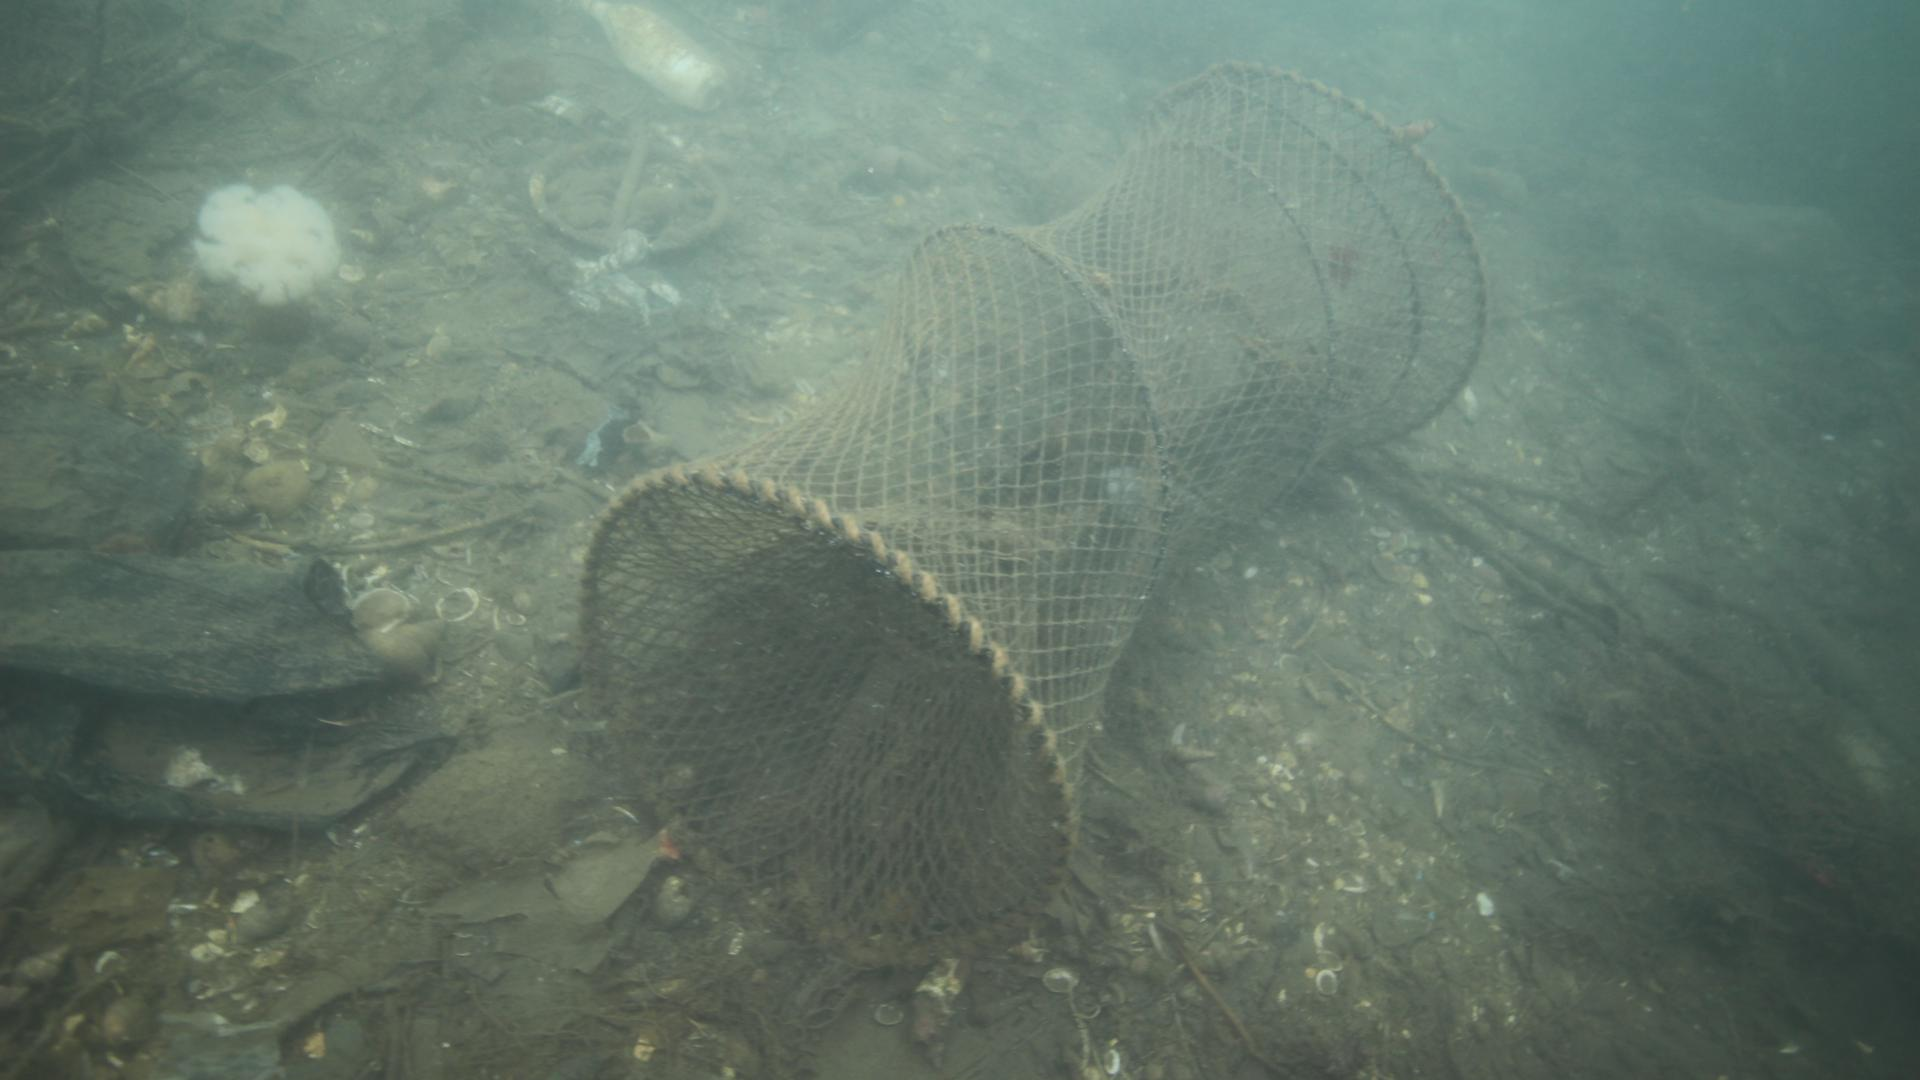spring fish trap: (575, 59, 1489, 973)
